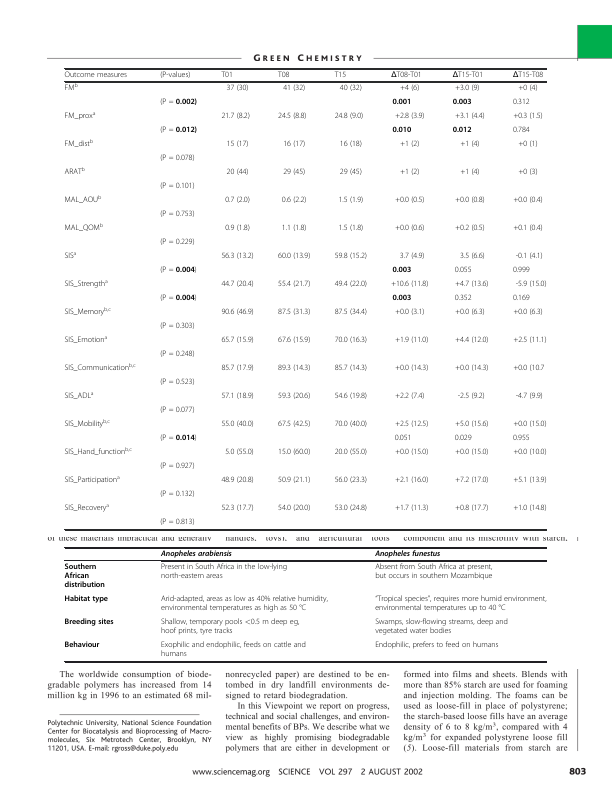borderless: (63, 66, 546, 529), (63, 546, 546, 661)
cell: (374, 595, 547, 614), (160, 595, 329, 614), (160, 641, 307, 660), (160, 618, 300, 637), (374, 618, 509, 637), (160, 563, 288, 582), (374, 563, 493, 582), (374, 641, 499, 651), (63, 563, 106, 591), (64, 362, 137, 373), (64, 446, 133, 457), (160, 550, 233, 559), (64, 474, 121, 485), (374, 550, 441, 559), (64, 71, 128, 80), (64, 306, 112, 317), (63, 618, 115, 628), (64, 418, 111, 429), (64, 502, 110, 513), (64, 278, 109, 289), (64, 334, 108, 345), (63, 595, 109, 605), (64, 222, 104, 233), (64, 194, 102, 205), (63, 641, 100, 651), (64, 110, 96, 121), (159, 98, 198, 107), (159, 126, 198, 135), (159, 266, 198, 275), (390, 280, 429, 289), (159, 294, 198, 303), (159, 434, 198, 443), (64, 138, 94, 149), (64, 390, 94, 401), (159, 154, 195, 163), (159, 182, 195, 191), (159, 210, 195, 219), (159, 238, 195, 247), (159, 322, 195, 331), (159, 350, 195, 359), (159, 378, 195, 387), (159, 406, 195, 415), (159, 462, 195, 471), (159, 490, 195, 499), (159, 518, 195, 527), (220, 252, 255, 261), (220, 280, 255, 289), (454, 280, 489, 289), (220, 308, 255, 317), (220, 336, 255, 345), (394, 336, 429, 345), (454, 336, 489, 345), (512, 336, 547, 345), (220, 364, 255, 373), (394, 364, 429, 373), (454, 364, 489, 373), (220, 392, 255, 401), (220, 420, 255, 429), (394, 420, 429, 429), (454, 420, 489, 429), (512, 420, 547, 429), (394, 448, 429, 457), (454, 448, 489, 457), (512, 448, 547, 457), (220, 476, 255, 485), (394, 476, 429, 485), (454, 476, 489, 485), (512, 476, 547, 485), (220, 504, 255, 513), (394, 504, 429, 513), (454, 504, 489, 513), (512, 504, 547, 513), (277, 252, 311, 261), (334, 252, 368, 261), (277, 280, 311, 289), (334, 280, 368, 289), (277, 308, 311, 317), (334, 308, 368, 317), (277, 336, 311, 345), (334, 336, 368, 345), (277, 364, 311, 373), (334, 364, 368, 373), (277, 392, 311, 401), (334, 392, 368, 401), (277, 420, 311, 429), (334, 420, 368, 429), (277, 448, 311, 457), (334, 448, 368, 457), (277, 476, 311, 485), (334, 476, 368, 485), (277, 504, 311, 513), (334, 504, 368, 513), (390, 71, 423, 80), (512, 364, 545, 373), (159, 71, 191, 80), (452, 71, 484, 80), (512, 71, 544, 80), (454, 112, 486, 121), (512, 112, 544, 121), (454, 196, 486, 205), (512, 196, 544, 205), (454, 224, 486, 233), (512, 224, 544, 233), (515, 280, 547, 289), (454, 308, 486, 317), (512, 308, 544, 317), (220, 112, 251, 121), (394, 112, 425, 121), (394, 196, 425, 205), (394, 224, 425, 233), (394, 308, 425, 317), (394, 392, 425, 401), (224, 448, 255, 457), (277, 112, 307, 121), (334, 112, 364, 121), (515, 252, 544, 261), (457, 392, 486, 401), (515, 392, 544, 401), (224, 196, 251, 205), (337, 196, 364, 205), (224, 224, 251, 233), (337, 224, 364, 233), (459, 252, 486, 261), (64, 166, 86, 177), (454, 84, 480, 93), (281, 196, 307, 205), (281, 224, 307, 233), (399, 252, 425, 261), (282, 84, 306, 93), (339, 84, 363, 93), (282, 140, 306, 149), (339, 140, 363, 149), (282, 168, 306, 177), (339, 168, 363, 177), (226, 84, 249, 93), (226, 140, 249, 149), (226, 168, 249, 177), (399, 84, 420, 93), (517, 84, 538, 93), (399, 140, 420, 149), (459, 140, 480, 149), (517, 140, 538, 149), (399, 168, 420, 177), (459, 168, 480, 177), (517, 168, 538, 177), (391, 98, 412, 106), (391, 126, 412, 134), (391, 266, 412, 274), (391, 294, 412, 302), (64, 82, 79, 93), (512, 98, 530, 107), (512, 126, 530, 135), (454, 266, 472, 275), (512, 266, 530, 275), (454, 294, 472, 303), (512, 294, 530, 303), (394, 434, 412, 443), (454, 434, 472, 443), (512, 434, 530, 443), (452, 98, 472, 106), (452, 126, 472, 134), (64, 250, 77, 261), (220, 71, 234, 80), (277, 71, 290, 80), (334, 71, 347, 80)
